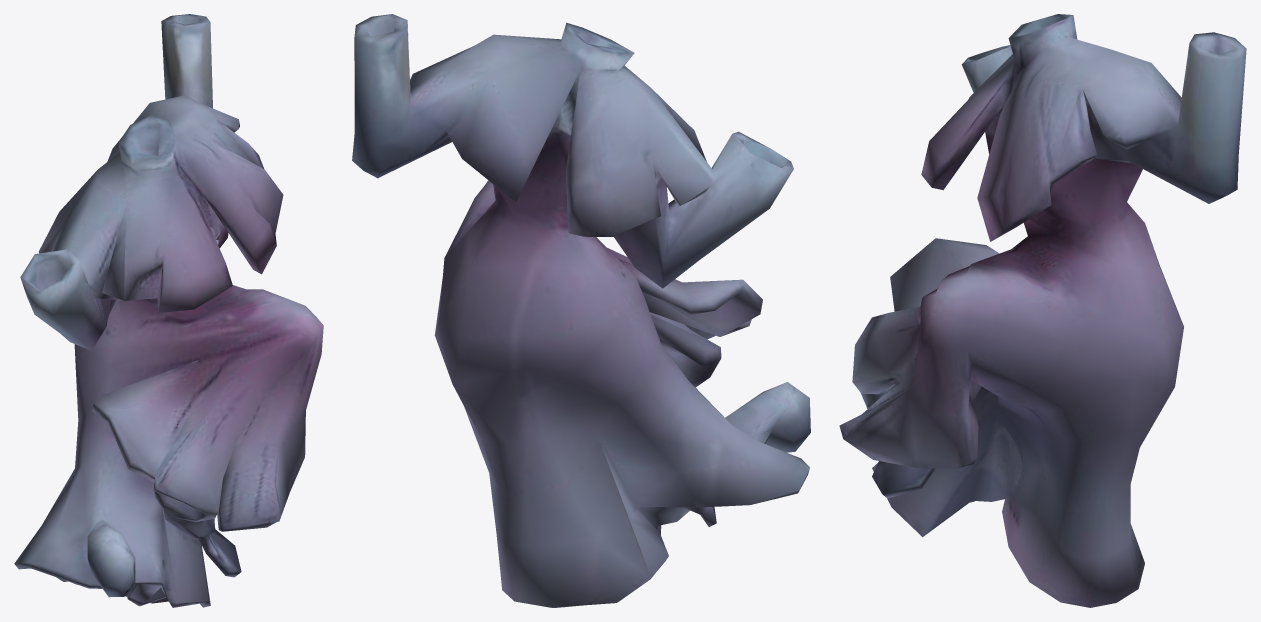
3 views of the same model, side by side, from view 1: azimuth 30°, elevation 25°; view 2: azimuth 150°, elevation 25°; view 3: azimuth 270°, elevation 25° (orthographic). The views are drawn at different scales.
Parts seen in each view (by area): view 1: tripo_part_0; view 2: tripo_part_0; view 3: tripo_part_0.
Boxes of the visible parts, box(x1,y1,x2,y2) form: tripo_part_0: box(14, 14, 323, 607); tripo_part_0: box(352, 14, 810, 607); tripo_part_0: box(839, 14, 1246, 607).
Size of the model in its own units: 0.1936 by 0.3239 by 0.2.
Materials: 1 (1 with a texture image).
